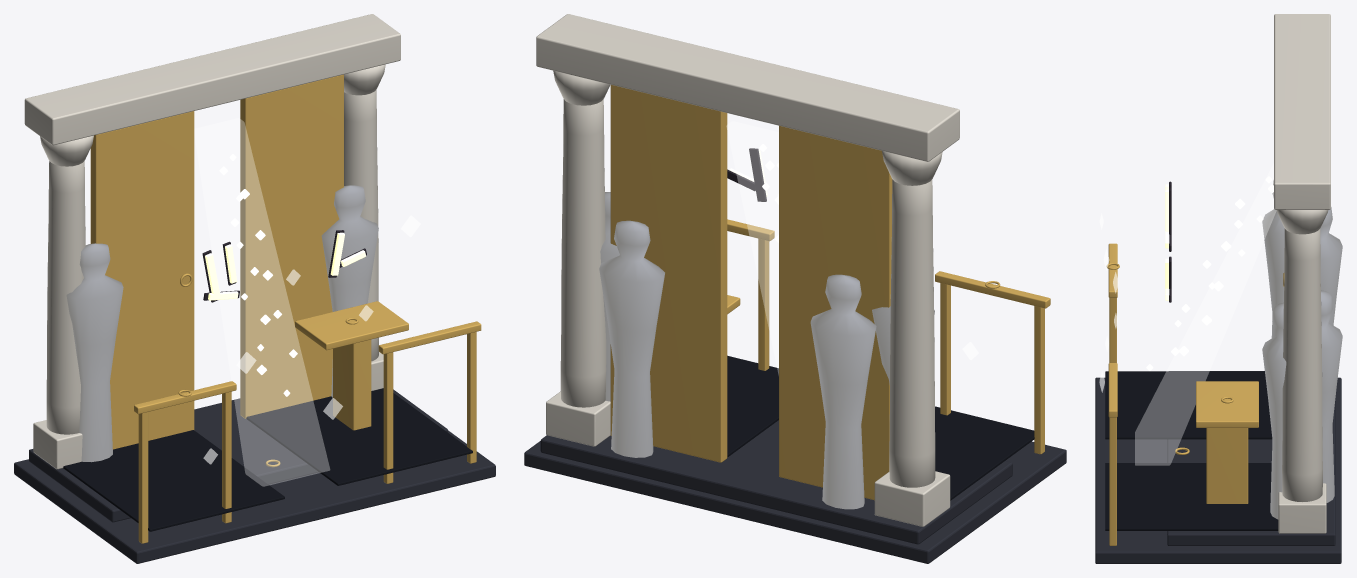
Rendered from webtoon-zdepth-sfx-slit-creak-noon-5600k-v23.glb.
3 renders of one model, left to right at view 1: azimuth 30°, elevation 25°; view 2: azimuth 150°, elevation 25°; view 3: azimuth 270°, elevation 25°, orthographic. The views are drawn at different scales.
Parts seen in each view (by area): view 1: Articulated_V23Beat1_5600K_DoorsAndIkRig, V23Beat1_5600K_PortalColonnade, Volumetric_V23Beat1_5600K_GodRaySlit, ShadowDrift_V23Beat1_5600K_UmbraMask, V23Beat1_5600K_DatumDeck, DatumCrowd_V23Beat1_5600K_Silhouettes, ZDepthSFX_V23Beat1_5600K_GlyphCore, Atmospheric_V23Beat1_5600K_FgBokehLayer, Atmospheric_V23Beat1_5600K_MidMotes, ZDepthSFX_V23Beat1_5600K_ShadowPlate; view 2: Articulated_V23Beat1_5600K_DoorsAndIkRig, V23Beat1_5600K_PortalColonnade, V23Beat1_5600K_DatumDeck, DatumCrowd_V23Beat1_5600K_Silhouettes, ShadowDrift_V23Beat1_5600K_UmbraMask, Volumetric_V23Beat1_5600K_GodRaySlit, ZDepthSFX_V23Beat1_5600K_ShadowPlate; view 3: V23Beat1_5600K_PortalColonnade, ShadowDrift_V23Beat1_5600K_UmbraMask, V23Beat1_5600K_DatumDeck, Volumetric_V23Beat1_5600K_GodRaySlit, Articulated_V23Beat1_5600K_DoorsAndIkRig, DatumCrowd_V23Beat1_5600K_Silhouettes, Atmospheric_V23Beat1_5600K_MidMotes, ZDepthSFX_V23Beat1_5600K_GlyphCore, Atmospheric_V23Beat1_5600K_FgBokehLayer, ZDepthSFX_V23Beat1_5600K_ShadowPlate.
Part boxes in pixels (x1=…): Articulated_V23Beat1_5600K_DoorsAndIkRig: x1=90, y1=74, x2=481, y2=543; V23Beat1_5600K_PortalColonnade: x1=24, y1=14, x2=400, y2=469; Volumetric_V23Beat1_5600K_GodRaySlit: x1=194, y1=118, x2=329, y2=486; ShadowDrift_V23Beat1_5600K_UmbraMask: x1=63, y1=388, x2=472, y2=531; V23Beat1_5600K_DatumDeck: x1=14, y1=389, x2=495, y2=563; DatumCrowd_V23Beat1_5600K_Silhouettes: x1=66, y1=185, x2=378, y2=462; ZDepthSFX_V23Beat1_5600K_GlyphCore: x1=205, y1=232, x2=365, y2=300; Atmospheric_V23Beat1_5600K_FgBokehLayer: x1=203, y1=215, x2=420, y2=464; Atmospheric_V23Beat1_5600K_MidMotes: x1=219, y1=154, x2=297, y2=396; ZDepthSFX_V23Beat1_5600K_ShadowPlate: x1=202, y1=230, x2=366, y2=302; Articulated_V23Beat1_5600K_DoorsAndIkRig: x1=610, y1=85, x2=1050, y2=500; V23Beat1_5600K_PortalColonnade: x1=536, y1=14, x2=959, y2=526; V23Beat1_5600K_DatumDeck: x1=524, y1=420, x2=1066, y2=563; DatumCrowd_V23Beat1_5600K_Silhouettes: x1=599, y1=192, x2=934, y2=509; ShadowDrift_V23Beat1_5600K_UmbraMask: x1=727, y1=355, x2=1034, y2=500; Volumetric_V23Beat1_5600K_GodRaySlit: x1=726, y1=121, x2=778, y2=374; ZDepthSFX_V23Beat1_5600K_ShadowPlate: x1=727, y1=148, x2=766, y2=201; V23Beat1_5600K_PortalColonnade: x1=1274, y1=14, x2=1330, y2=533; ShadowDrift_V23Beat1_5600K_UmbraMask: x1=1105, y1=371, x2=1278, y2=530; V23Beat1_5600K_DatumDeck: x1=1095, y1=371, x2=1341, y2=563; Volumetric_V23Beat1_5600K_GodRaySlit: x1=1135, y1=164, x2=1276, y2=465; Articulated_V23Beat1_5600K_DoorsAndIkRig: x1=1106, y1=243, x2=1284, y2=545; DatumCrowd_V23Beat1_5600K_Silhouettes: x1=1262, y1=180, x2=1342, y2=519; Atmospheric_V23Beat1_5600K_MidMotes: x1=1146, y1=176, x2=1273, y2=371; ZDepthSFX_V23Beat1_5600K_GlyphCore: x1=1165, y1=184, x2=1169, y2=300; Atmospheric_V23Beat1_5600K_FgBokehLayer: x1=1099, y1=213, x2=1118, y2=392; ZDepthSFX_V23Beat1_5600K_ShadowPlate: x1=1169, y1=181, x2=1171, y2=302.
Bounding box in the file's own units: 2.76 × 2.78 × 1.65.
